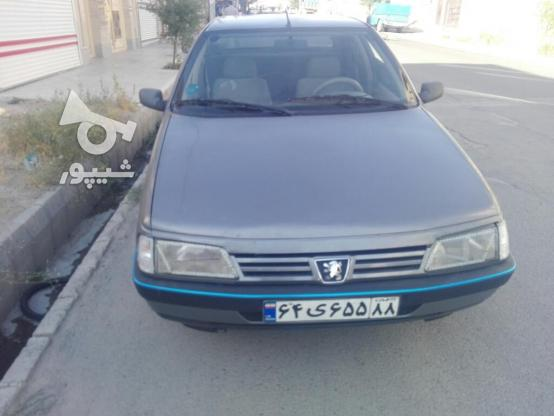car: (260, 298, 404, 324)
